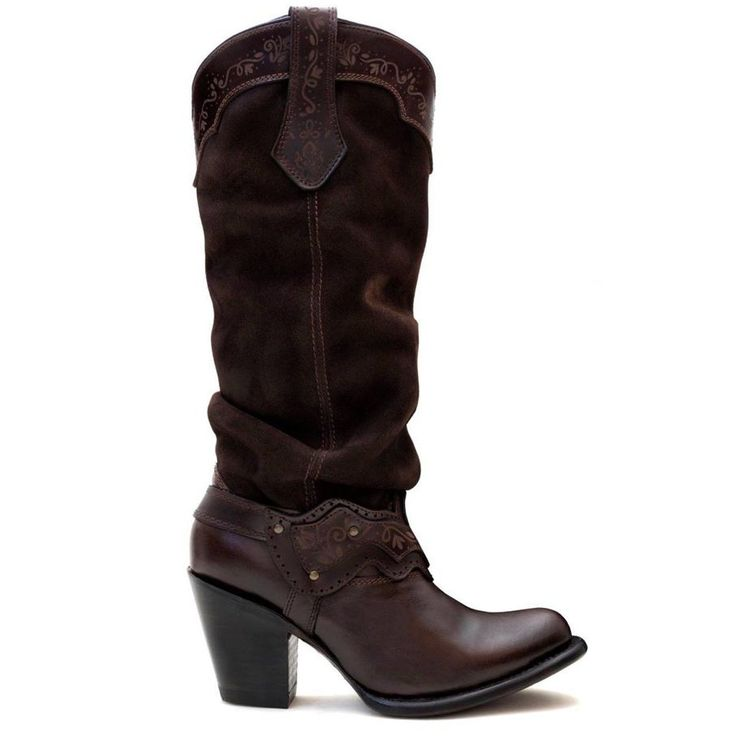gamuza: (191, 78, 434, 513)
